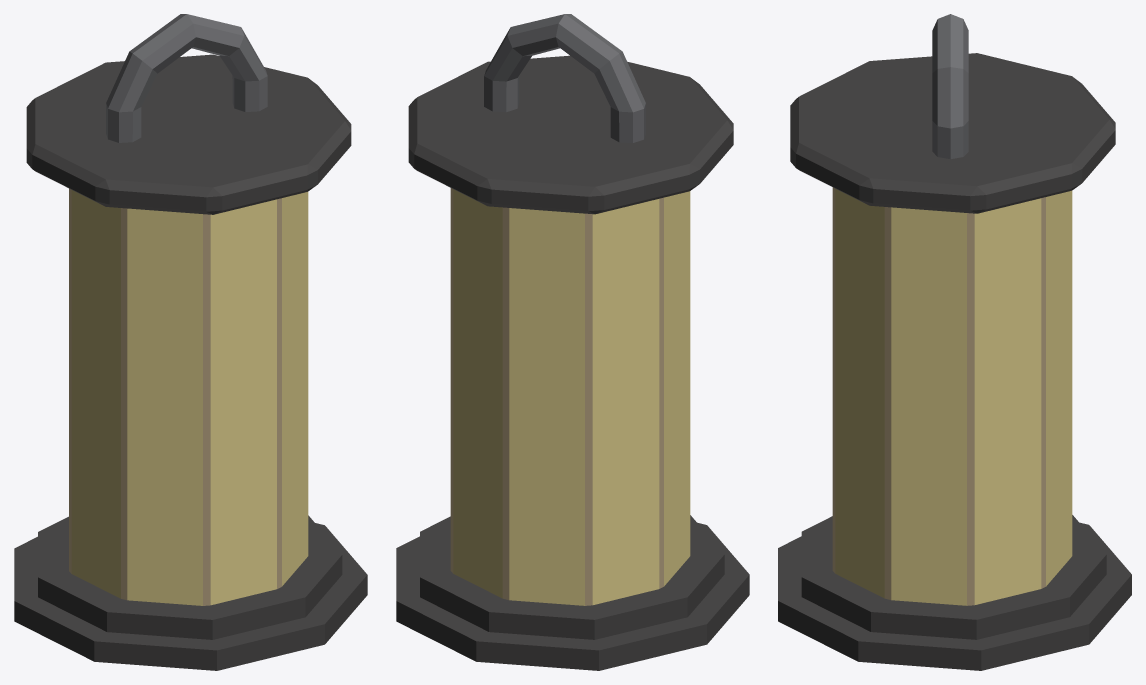
The model's file is LAMP.fbx.
The picture shows the model from 3 angles, left to right: view 1: azimuth 30°, elevation 25°; view 2: azimuth 150°, elevation 25°; view 3: azimuth 270°, elevation 25°; orthographic projection.
Parts seen in each view (by area): view 1: Cylinder.017, Cylinder.002; view 2: Cylinder.017, Cylinder.002; view 3: Cylinder.017, Cylinder.002.
Boxes of the visible parts, box(x1,y1,x2,y2) form: Cylinder.017: box(71, 190, 308, 605); Cylinder.002: box(14, 14, 367, 670); Cylinder.017: box(453, 189, 690, 605); Cylinder.002: box(396, 14, 749, 670); Cylinder.017: box(835, 189, 1072, 605); Cylinder.002: box(778, 14, 1131, 670).
Bounding box in the file's own units: 233 × 416 × 229.
